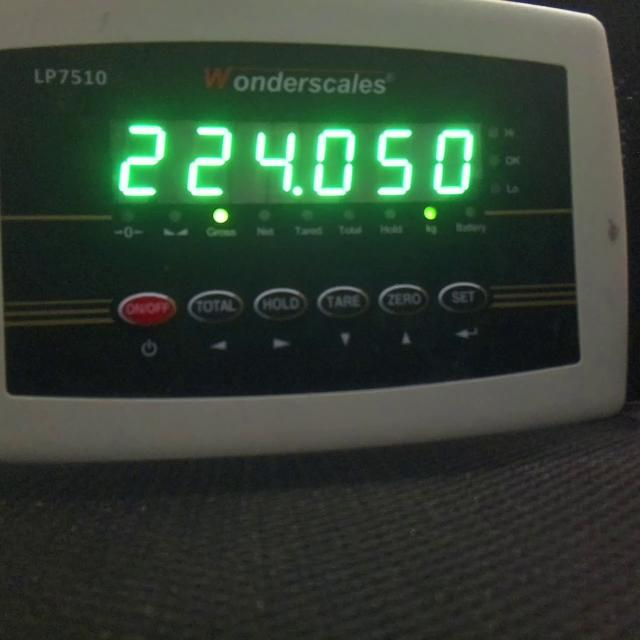.: (291, 185, 304, 197)
0: (314, 128, 356, 196), (433, 128, 474, 195)
2: (118, 124, 164, 196), (188, 126, 233, 197)
4: (254, 130, 294, 194)
5: (374, 128, 414, 196)
